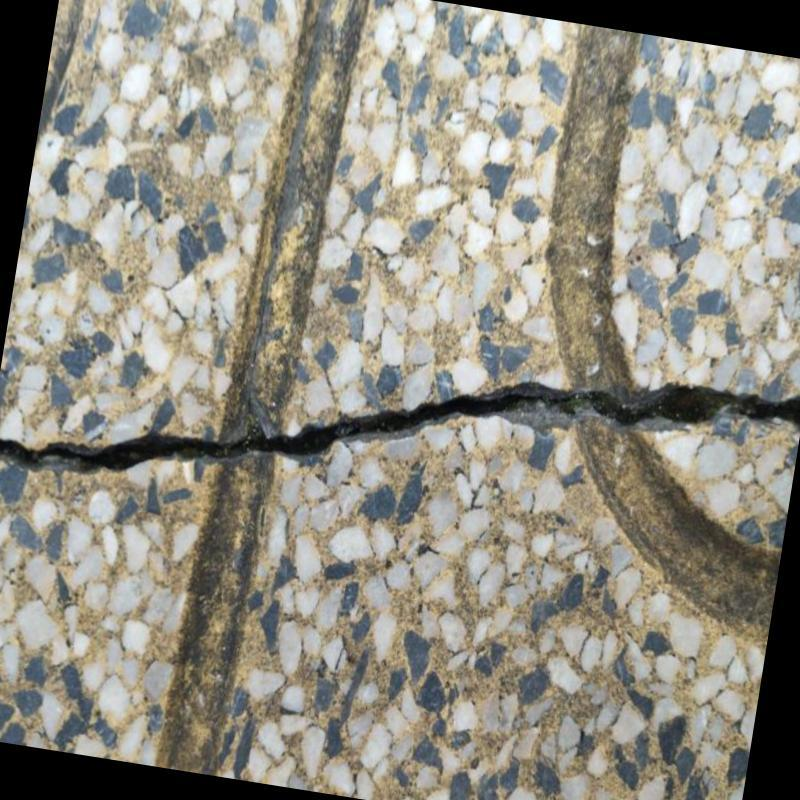crack: (0, 381, 800, 470)
